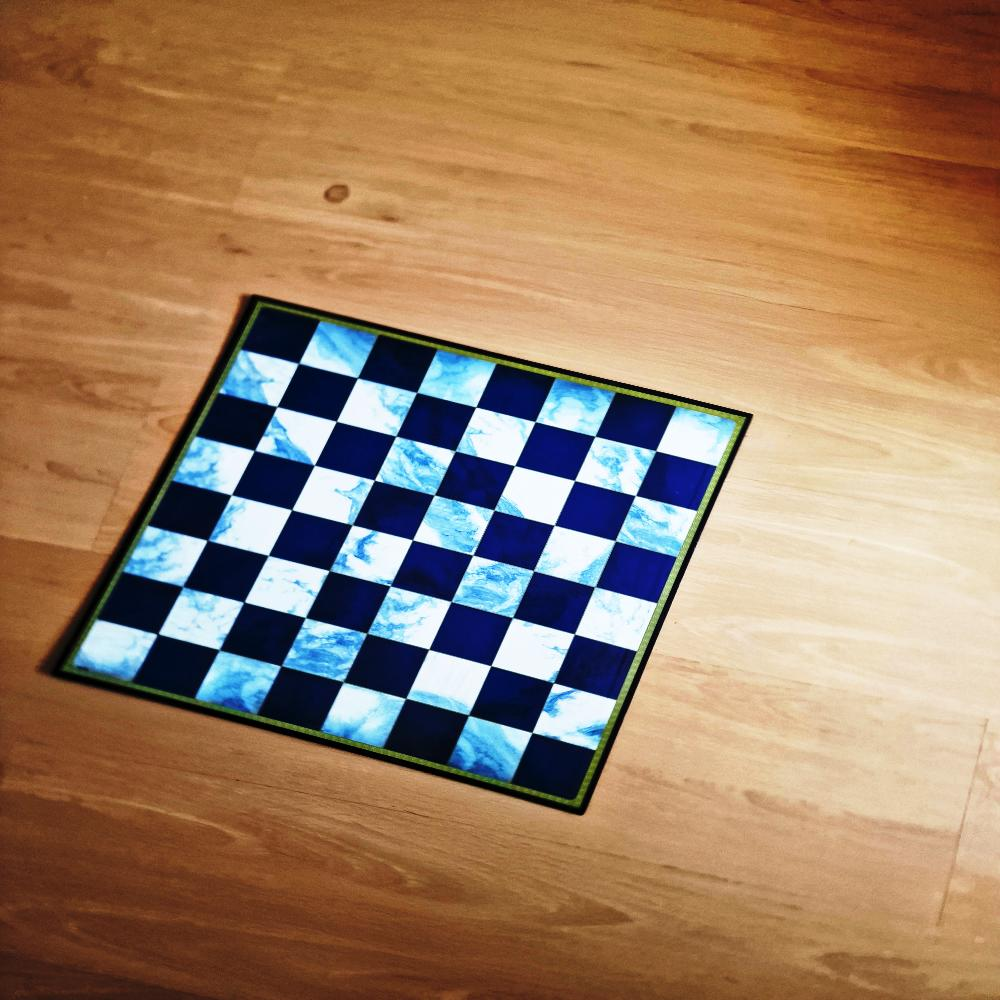chessfield: (322, 682, 410, 752), (194, 648, 282, 716), (444, 718, 531, 786), (161, 585, 249, 652), (70, 619, 158, 685), (285, 617, 371, 684), (408, 648, 494, 714), (386, 698, 471, 764), (251, 554, 338, 618), (576, 586, 660, 652), (496, 619, 580, 685), (535, 686, 619, 752), (375, 584, 461, 648), (211, 497, 298, 560), (516, 736, 596, 804), (135, 635, 220, 698), (476, 664, 557, 730), (534, 525, 618, 588), (333, 525, 418, 587), (258, 669, 344, 730), (345, 637, 428, 700), (124, 526, 208, 588), (294, 465, 378, 527), (454, 555, 536, 618), (222, 608, 306, 669), (498, 466, 581, 527), (175, 435, 259, 495), (558, 636, 638, 699), (661, 408, 745, 468), (414, 497, 496, 558), (187, 541, 270, 601), (308, 573, 391, 633), (430, 606, 510, 668), (620, 498, 700, 560), (535, 381, 617, 441), (300, 318, 382, 378), (419, 348, 498, 410), (339, 378, 422, 437), (577, 436, 657, 497), (103, 570, 182, 631), (517, 574, 597, 634), (382, 436, 462, 496), (235, 453, 317, 511), (475, 512, 555, 571), (462, 408, 541, 467), (219, 346, 298, 405), (602, 543, 682, 601), (276, 513, 354, 572), (395, 542, 475, 599), (264, 407, 341, 466), (360, 486, 439, 543), (316, 422, 395, 479), (601, 397, 681, 453), (439, 455, 519, 511), (519, 422, 596, 480), (399, 397, 478, 453), (281, 366, 361, 421), (558, 487, 635, 544), (360, 339, 439, 394), (640, 454, 716, 511), (244, 307, 321, 363), (201, 396, 277, 452), (478, 366, 555, 421), (160, 488, 235, 542)
